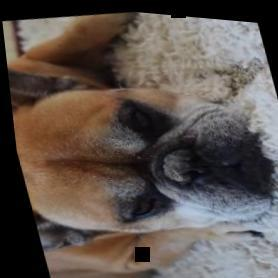keratosis: (150, 139, 197, 186)
